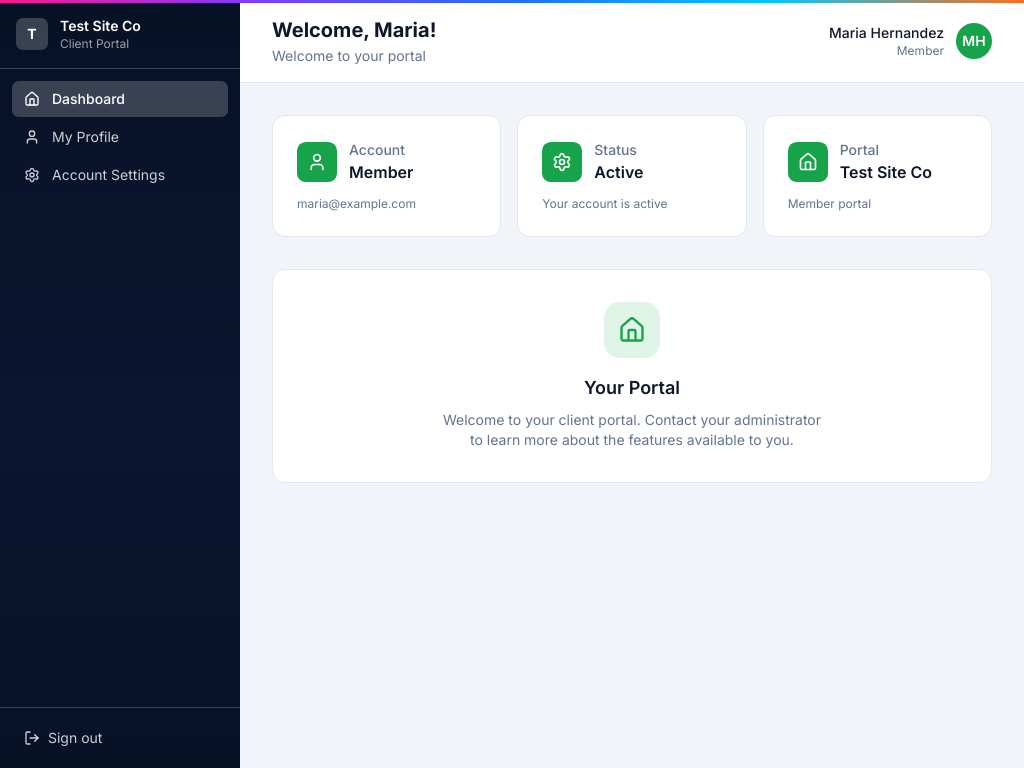
P5 FIX 1c — profile self-service › saves trimmed first/last name via updateMyProfile action
Click the button "My Profile" at {"x": 120, "y": 137}, box [12,119,228,155]
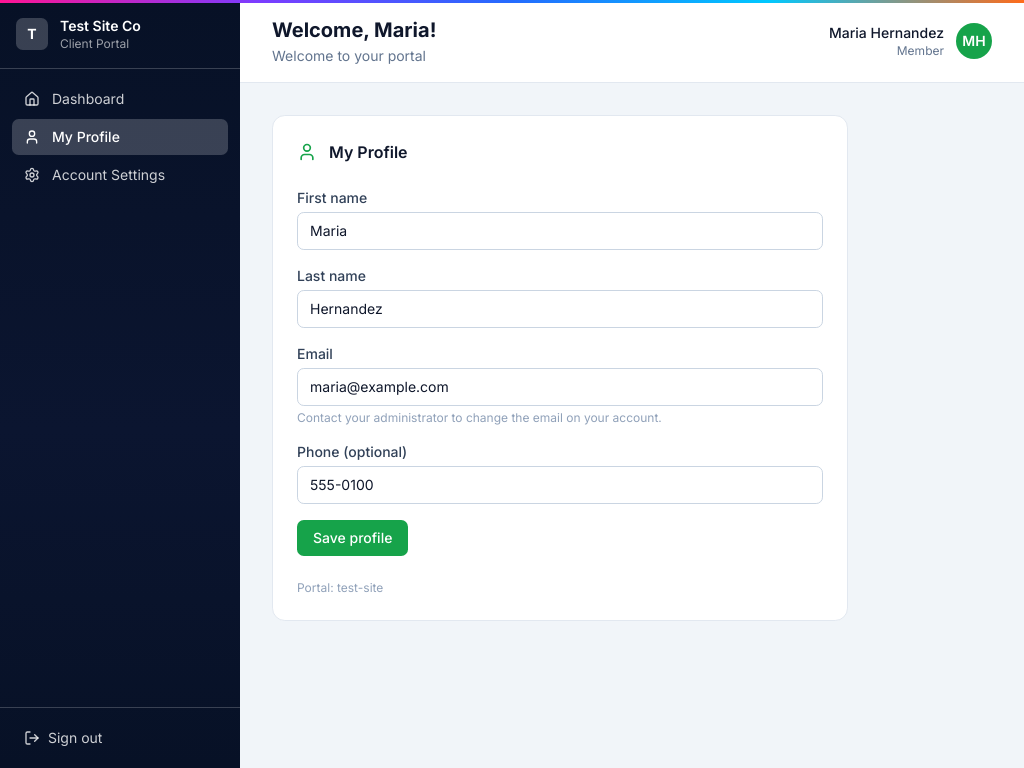
Replace the text in the field labelled "First name" with "  Marie  " at {"x": 560, "y": 231}, box [297,212,823,250]
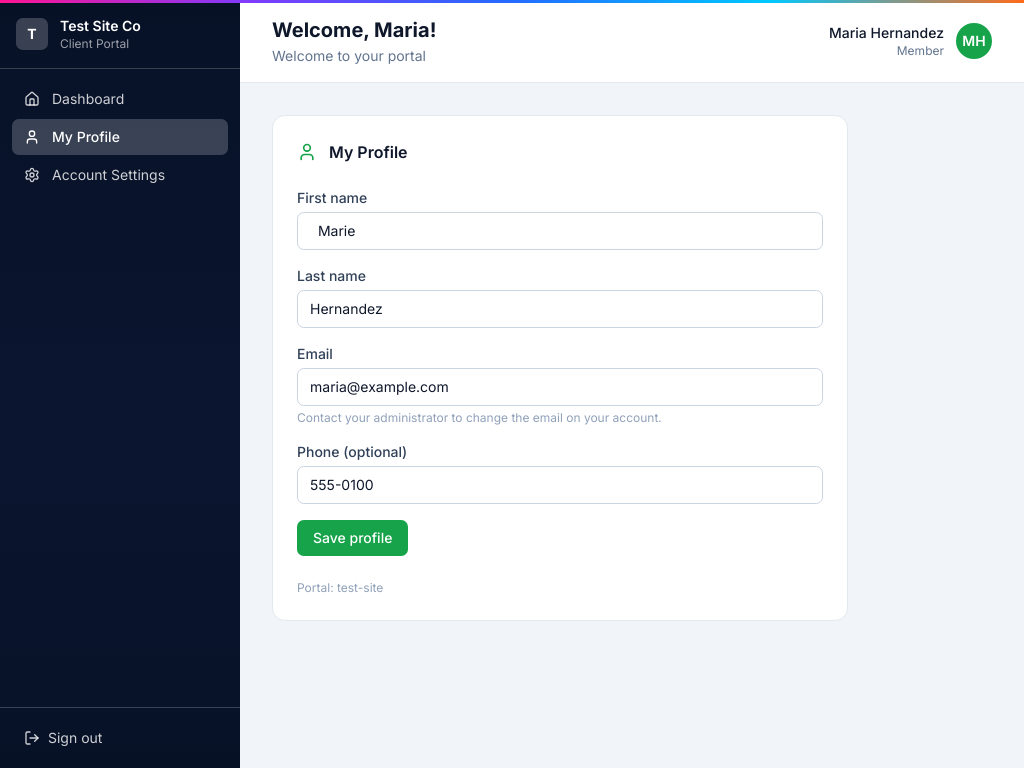
Replace the text in the field labelled "Last name" with " Hernandez-Perez " at {"x": 560, "y": 309}, box [297,290,823,328]
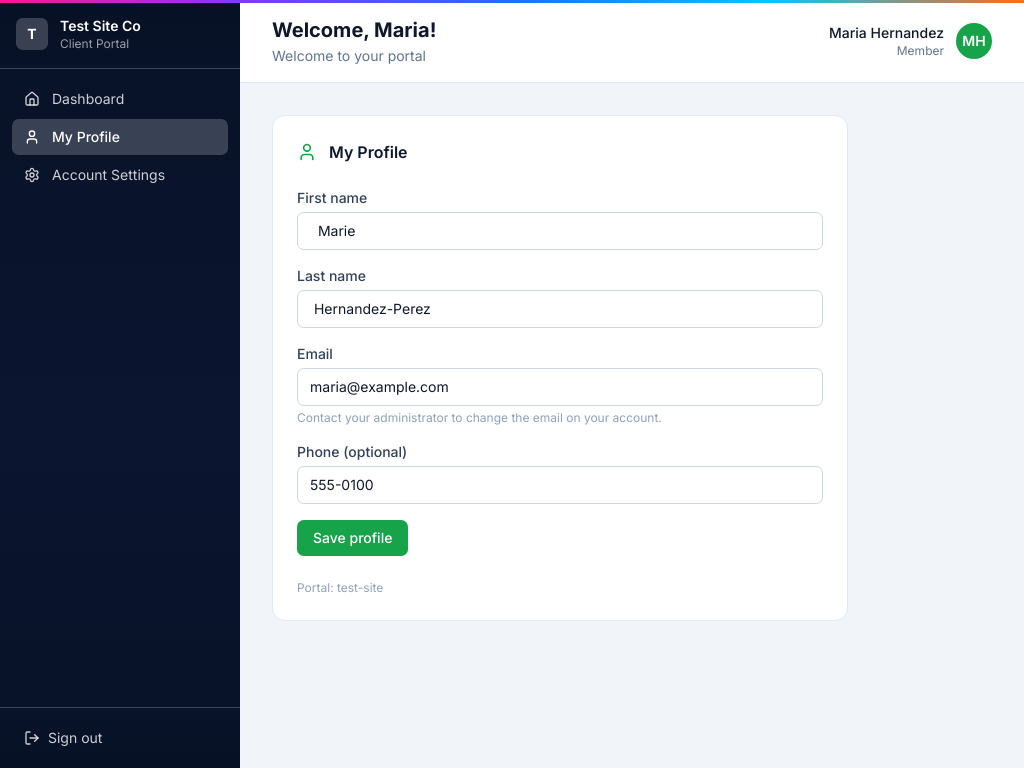
Click the button "Save profile" at {"x": 353, "y": 538}, box [297,520,408,556]
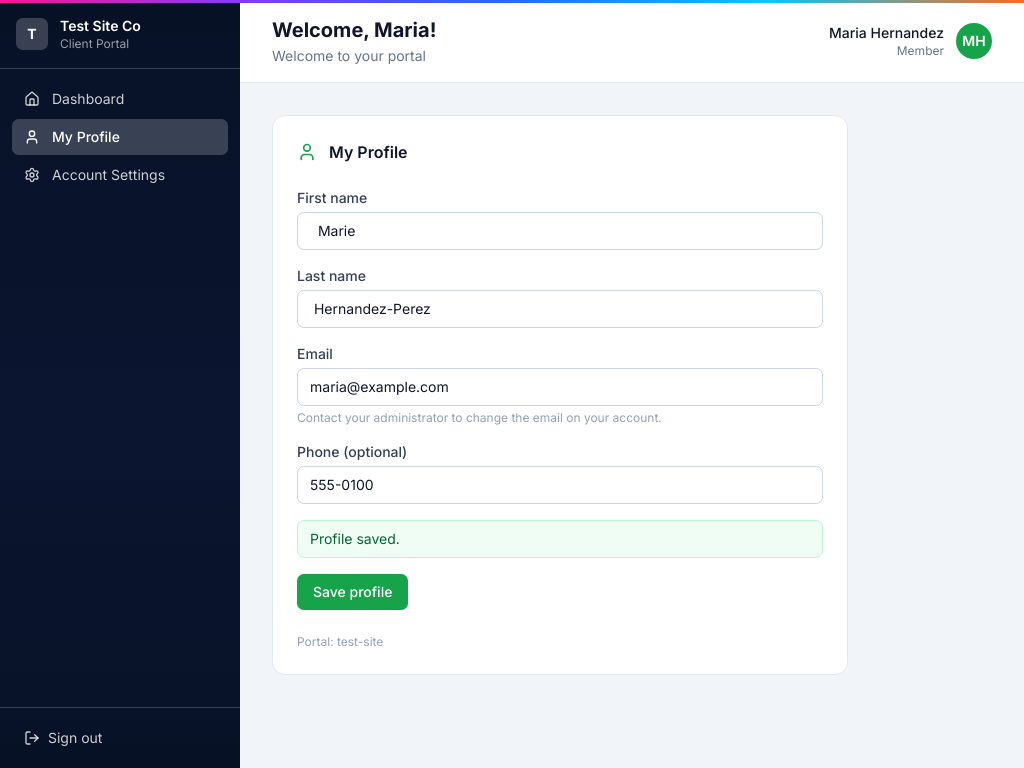
expect the text "Profile saved." is shown: met, box [297,520,823,558]
